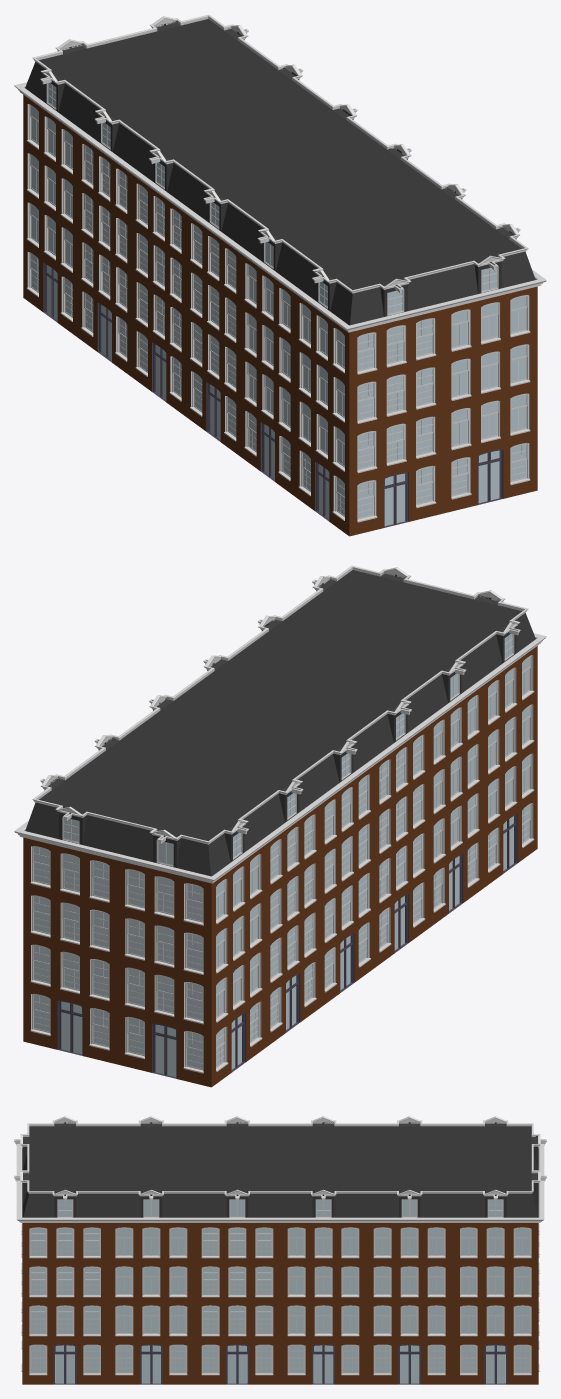
The model's file is 6x2_Residential.fbx.
The picture shows the model from 3 angles, top to bottom: view 1: azimuth 30°, elevation 25°; view 2: azimuth 150°, elevation 25°; view 3: azimuth 270°, elevation 25°; orthographic projection. The views are drawn at different scales.
Visible parts, largest first — view 1: 6x2 Residential; view 2: 6x2 Residential; view 3: 6x2 Residential.
Part boxes in pixels (bbox=[...]): 6x2 Residential: bbox=[14, 14, 546, 536]; 6x2 Residential: bbox=[14, 565, 546, 1087]; 6x2 Residential: bbox=[14, 1116, 546, 1384].
Size of the model in its own units: 13.14 by 15 by 37.14.
